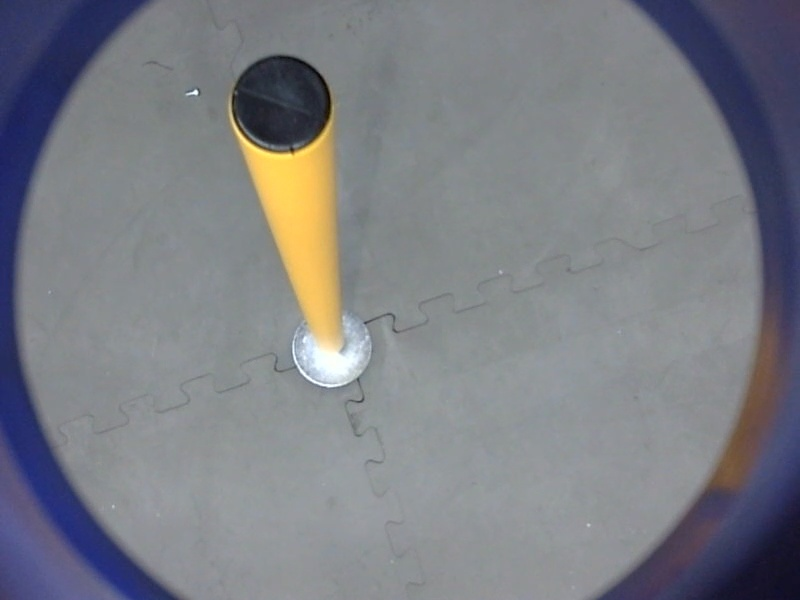tip: (218, 48, 341, 161)
